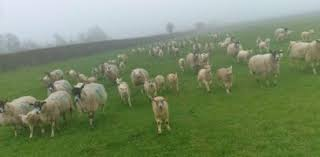sheep: (247, 48, 285, 91), (1, 90, 42, 128), (15, 110, 58, 146), (37, 88, 72, 132), (72, 81, 106, 123), (287, 34, 320, 67), (45, 80, 84, 104), (151, 94, 174, 133), (223, 40, 252, 66), (193, 66, 218, 96), (116, 77, 137, 111), (154, 72, 175, 101), (218, 66, 237, 96), (162, 68, 184, 92), (143, 75, 161, 103), (103, 62, 126, 82), (190, 49, 214, 66), (44, 69, 71, 83), (127, 67, 150, 83), (175, 54, 196, 71), (270, 24, 289, 40), (254, 36, 273, 51), (149, 46, 167, 60), (169, 40, 187, 52), (132, 44, 149, 54), (116, 52, 126, 65)
